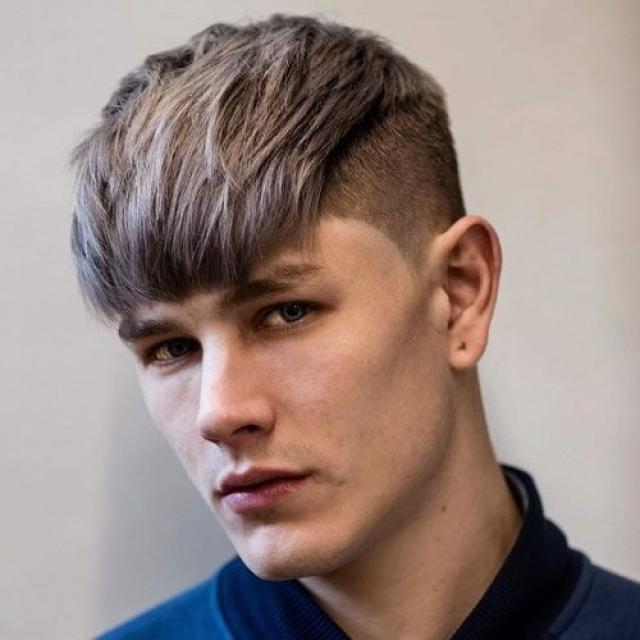Nonhelmet: (61, 19, 516, 582)
